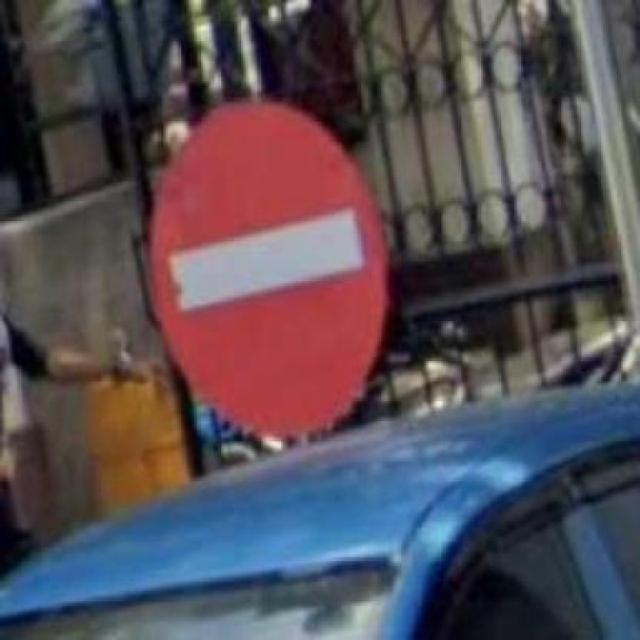no entry: (142, 95, 397, 443)
